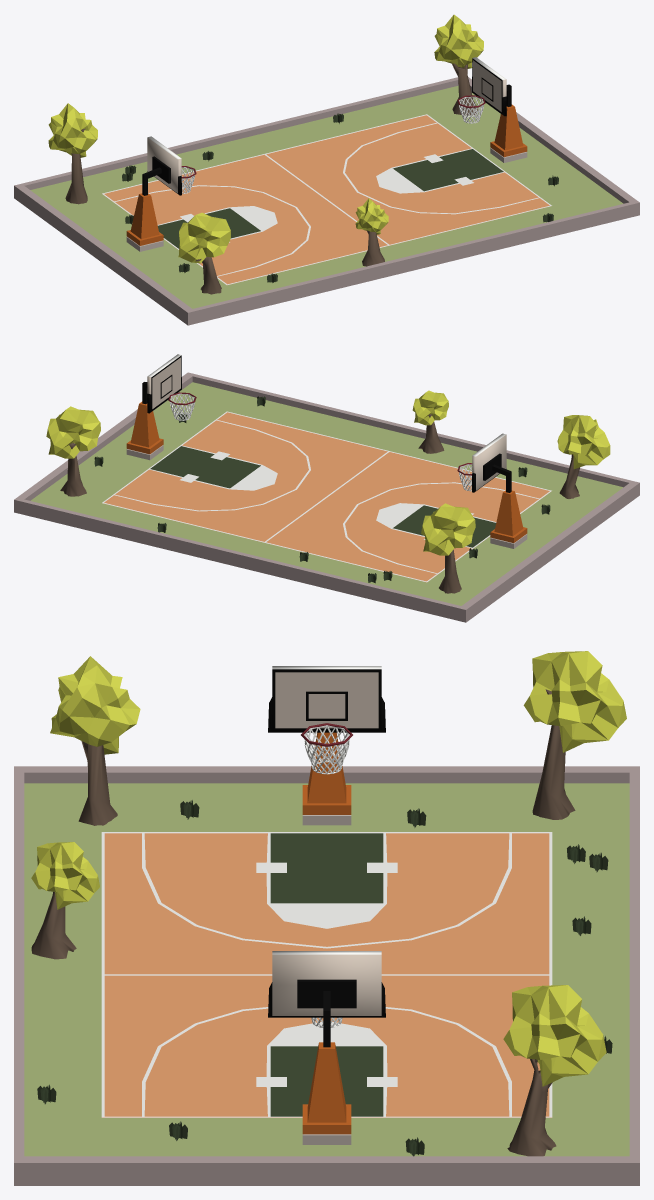
The model's file is basketball_court__low-poly.glb.
3 views of the same model, one above another, from view 1: azimuth 30°, elevation 25°; view 2: azimuth 150°, elevation 25°; view 3: azimuth 270°, elevation 25° (orthographic). The views are drawn at different scales.
Visible parts, largest first — view 1: Plane.001, Plane.002, Plane, Cube.001, Cylinder.003, Cube, Cube.004, Cube.003, Cube.002; view 2: Plane.001, Plane.002, Plane, Cube.001, Cylinder.003, Cube.003, Cube.004, Cube, Cube.002; view 3: Plane.001, Plane.002, Plane, Cube.001, Cylinder.003, Cube.004, Cube.003, Cube, Cube.002.
Boxes of the visible parts, x1=… form: Plane.001: x1=30, y1=85, x2=623, y2=308; Plane.002: x1=14, y1=77, x2=639, y2=325; Plane: x1=102, y1=114, x2=551, y2=284; Cube.001: x1=126, y1=57, x2=527, y2=251; Cylinder.003: x1=65, y1=63, x2=477, y2=294; Cube: x1=178, y1=212, x2=230, y2=263; Cube.004: x1=434, y1=14, x2=483, y2=68; Cube.003: x1=48, y1=103, x2=97, y2=157; Cube.002: x1=355, y1=198, x2=388, y2=234; Plane.001: x1=30, y1=382, x2=622, y2=605; Plane.002: x1=14, y1=372, x2=639, y2=622; Plane: x1=102, y1=411, x2=551, y2=582; Cube.001: x1=126, y1=354, x2=527, y2=548; Cylinder.003: x1=60, y1=414, x2=579, y2=593; Cube.003: x1=421, y1=503, x2=475, y2=555; Cube.004: x1=46, y1=406, x2=100, y2=458; Cube: x1=557, y1=415, x2=610, y2=469; Cube.002: x1=412, y1=390, x2=448, y2=425; Plane.001: x1=24, y1=783, x2=629, y2=1156; Plane.002: x1=14, y1=766, x2=639, y2=1185; Plane: x1=101, y1=832, x2=552, y2=1117; Cube.001: x1=268, y1=666, x2=385, y2=1144; Cylinder.003: x1=31, y1=689, x2=575, y2=1156; Cube.004: x1=503, y1=985, x2=606, y2=1086; Cube.003: x1=523, y1=651, x2=626, y2=752; Cube: x1=50, y1=656, x2=140, y2=754; Cube.002: x1=31, y1=842, x2=99, y2=909.
Size of the model in its own units: 4.17 by 0.8678 by 2.78.
1 material, 1 textured.
